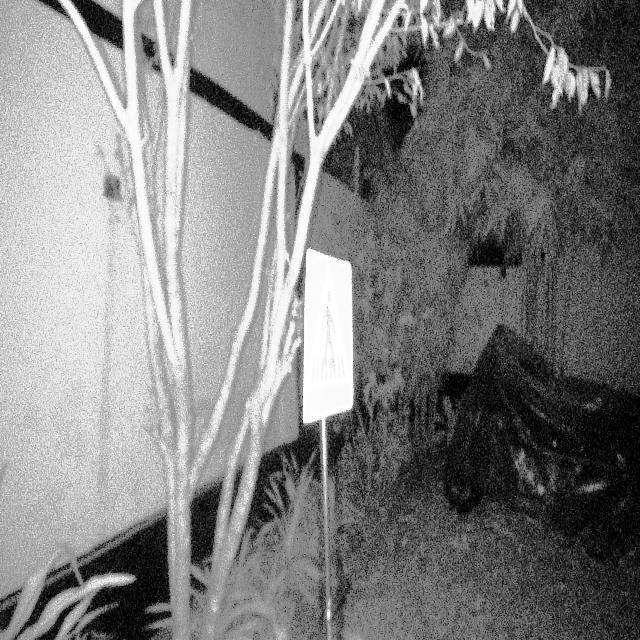Sign: (301, 247, 355, 427)
Tree: (89, 0, 198, 631), (207, 0, 311, 640)
